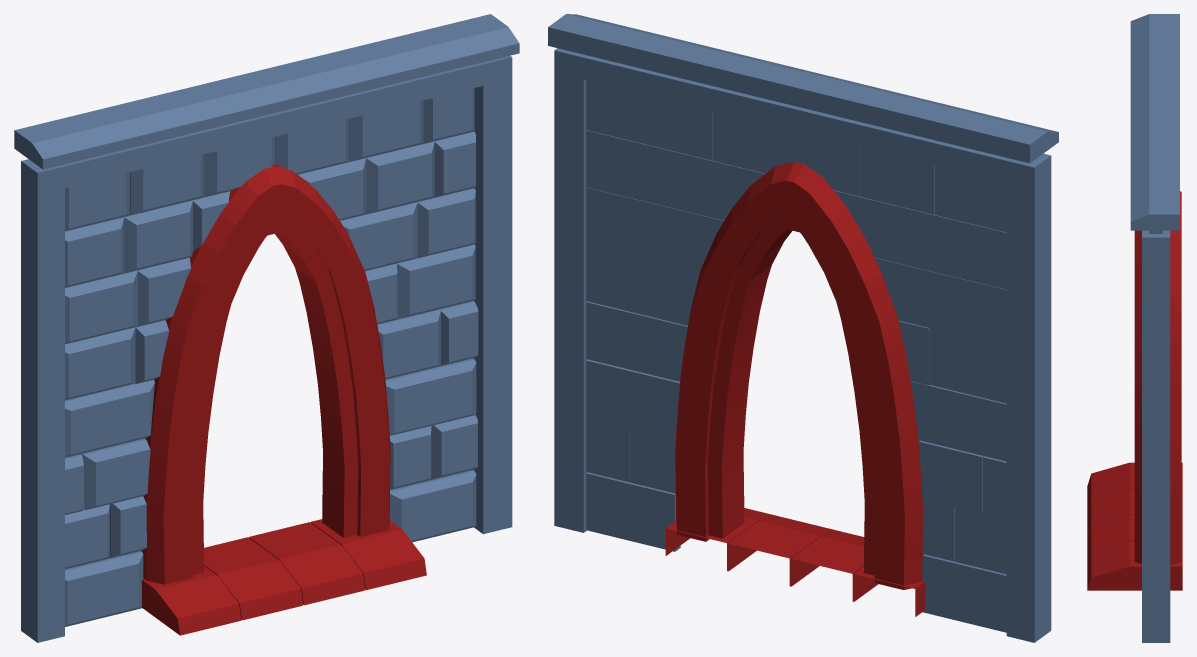
File: Ruins_Window_1.FBX
3 views of the same model, side by side, from view 1: azimuth 30°, elevation 25°; view 2: azimuth 150°, elevation 25°; view 3: azimuth 270°, elevation 25° (orthographic). The views are drawn at different scales.
Visible parts, largest first — view 1: Box035, Box034; view 2: Box035, Box034; view 3: Box035, Box034.
Part boxes in pixels (<box>): Box035: <box>14,14,519,642</box>; Box034: <box>141,164,426,635</box>; Box035: <box>548,14,1058,642</box>; Box034: <box>665,162,924,616</box>; Box035: <box>1130,14,1179,642</box>; Box034: <box>1087,191,1182,590</box>.
Size of the model in its own units: 62.8 by 62.59 by 12.65.
